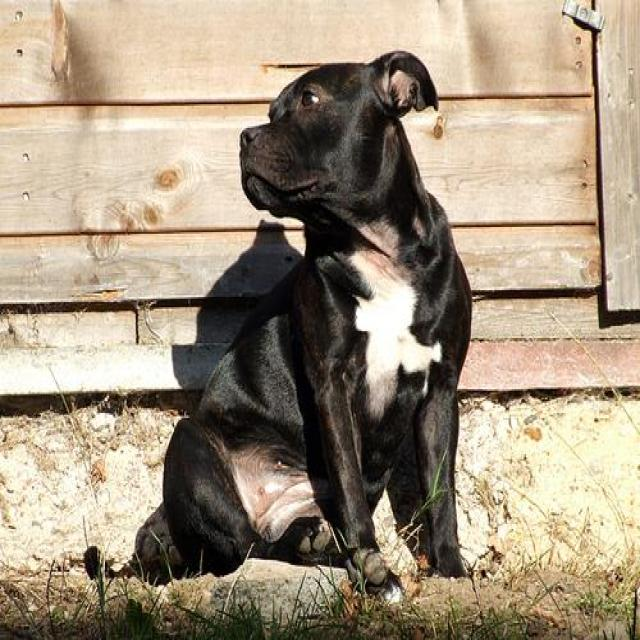staffordshire_bullterrier: (85, 48, 472, 618)
